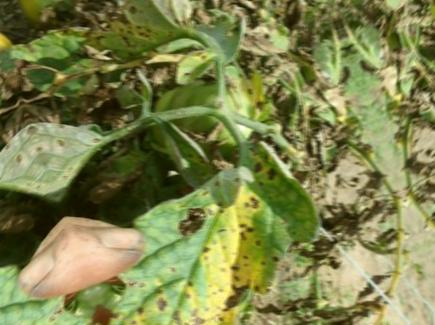Tomato Septoria leaf spot: (65, 132, 356, 325), (76, 0, 216, 81), (29, 101, 117, 198)
